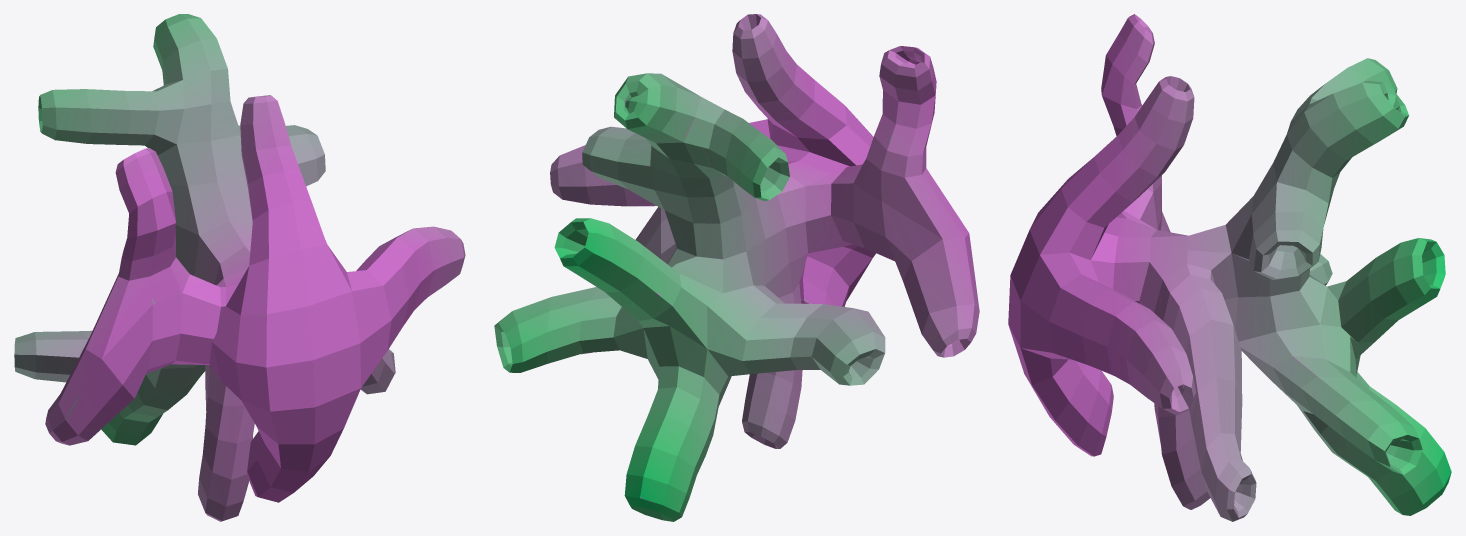
Rendered from CoralTree3.fbx.
3 views of the same model, side by side, from view 1: azimuth 30°, elevation 25°; view 2: azimuth 150°, elevation 25°; view 3: azimuth 270°, elevation 25° (orthographic). The views are drawn at different scales.
Visible parts, largest first — view 1: Cube.002; view 2: Cube.002; view 3: Cube.002.
Boxes of the visible parts, x1,y1,x2,y2 form: Cube.002: (14, 14, 465, 521); Cube.002: (494, 14, 979, 521); Cube.002: (1008, 14, 1451, 521).
Bounding box in the file's own units: 7655 × 7500 × 6729.
